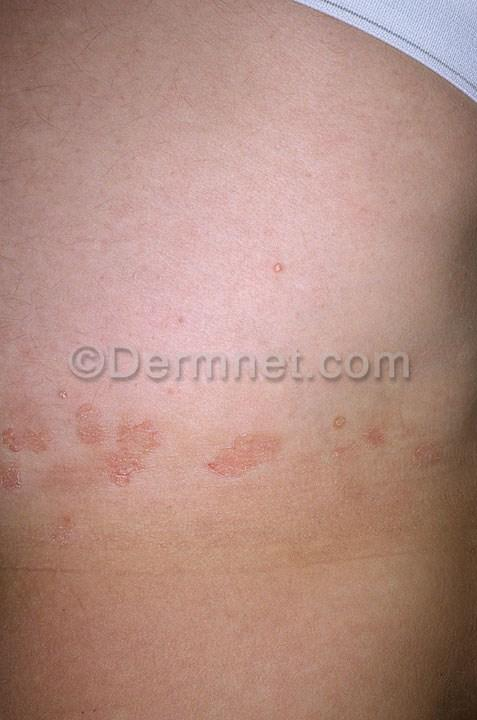Eczema: (16, 410, 161, 498), (201, 410, 290, 495), (329, 382, 395, 471)
